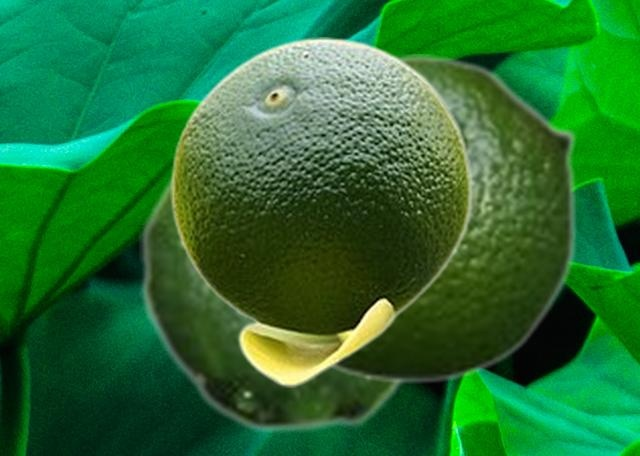calamansi: (170, 37, 472, 386), (328, 54, 578, 384), (139, 173, 409, 434)
